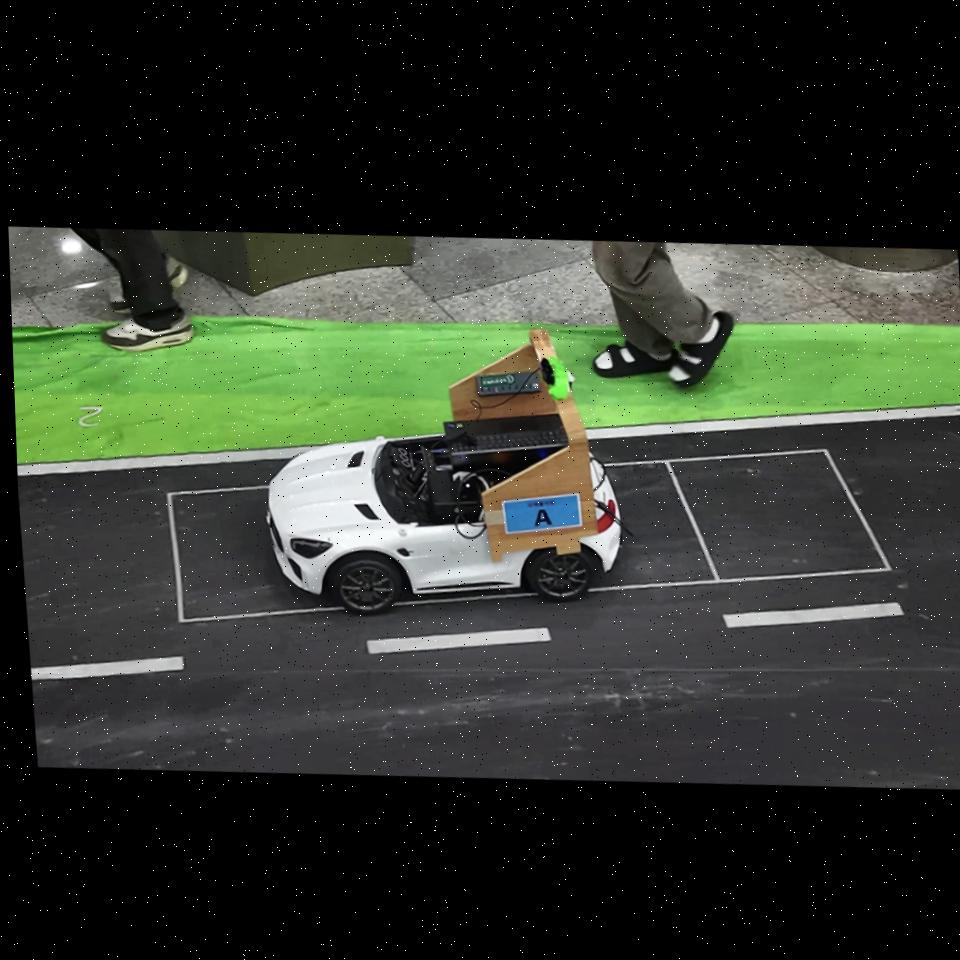broken_line: (366, 627, 551, 654), (723, 602, 903, 628), (31, 656, 183, 680)
